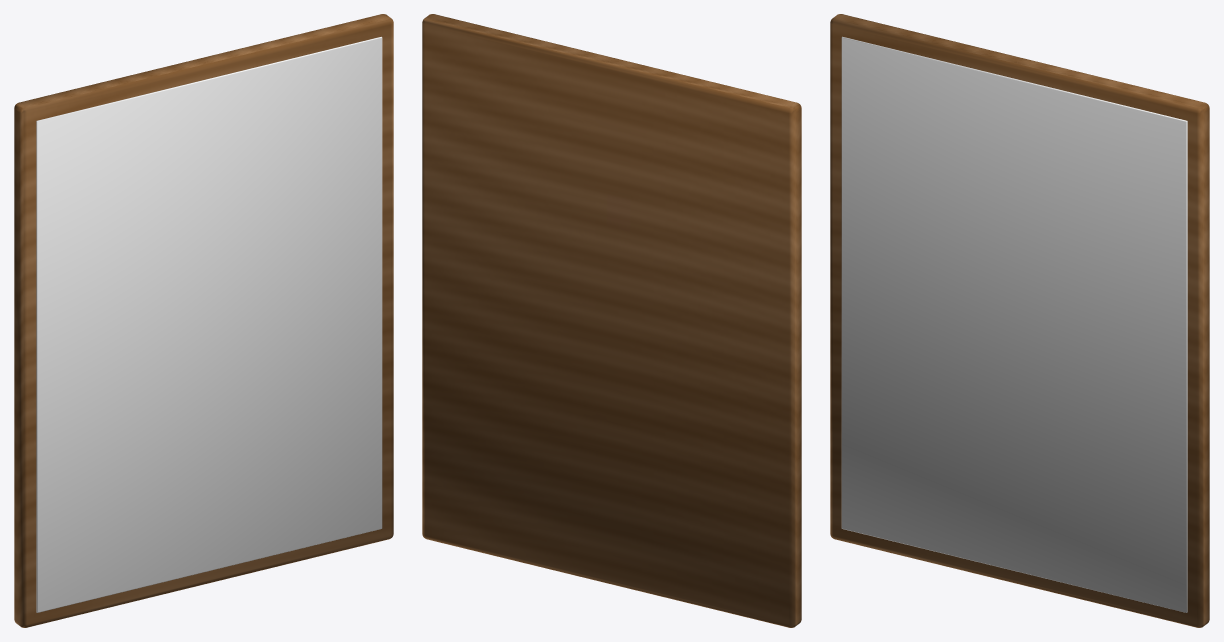
Rendered from mirror.glb.
3 views of the same model, side by side, from view 1: azimuth 30°, elevation 25°; view 2: azimuth 150°, elevation 25°; view 3: azimuth 330°, elevation 25° (orthographic).
Visible parts, largest first — view 1: mirror-mesh; view 2: mirror-mesh; view 3: mirror-mesh.
Part boxes in pixels (x1,y1,x2,y2): mirror-mesh: (14,14,393,627); mirror-mesh: (422,14,801,627); mirror-mesh: (830,14,1209,627).
Size of the model in its own units: 0.6 by 0.8 by 0.03.
Materials: 2 (1 with a texture image).
